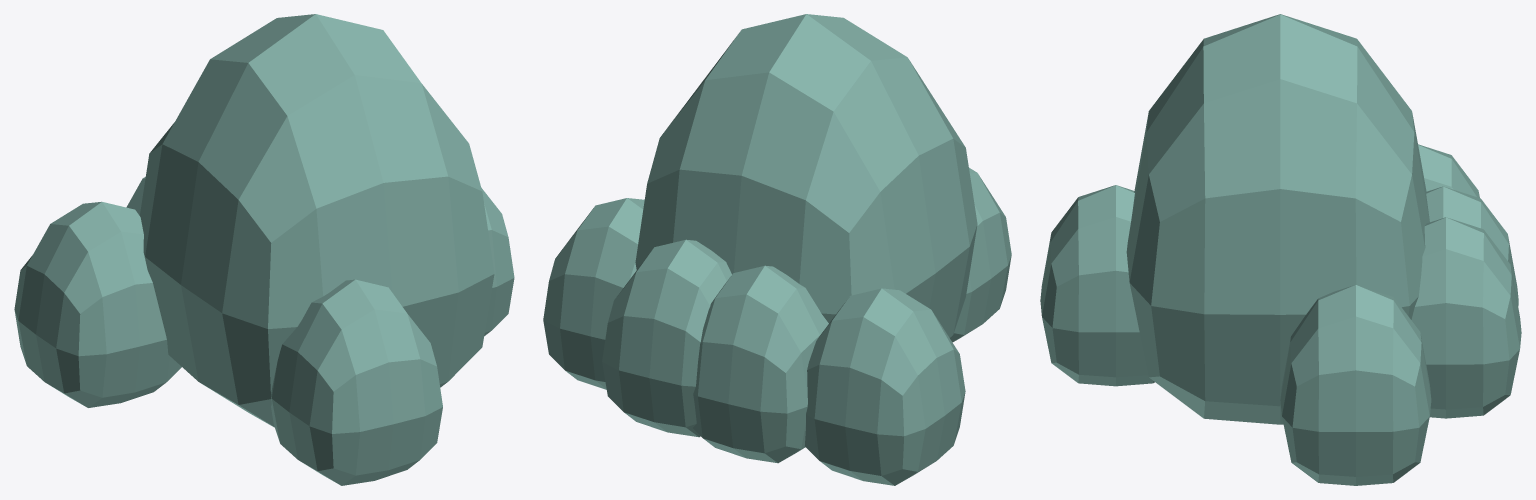
Rendered from iceBlock.fbx.
3 views of the same model, side by side, from view 1: azimuth 30°, elevation 25°; view 2: azimuth 150°, elevation 25°; view 3: azimuth 270°, elevation 25° (orthographic). The views are drawn at different scales.
Parts seen in each view (by area): view 1: Cube.004; view 2: Cube.004; view 3: Cube.004.
Boxes of the visible parts, left/top/right/bottom form: Cube.004: left=14, top=14, right=514, bottom=485; Cube.004: left=543, top=14, right=1011, bottom=485; Cube.004: left=1040, top=14, right=1521, bottom=485.
Bounding box in the file's own units: 304 × 266 × 299.
